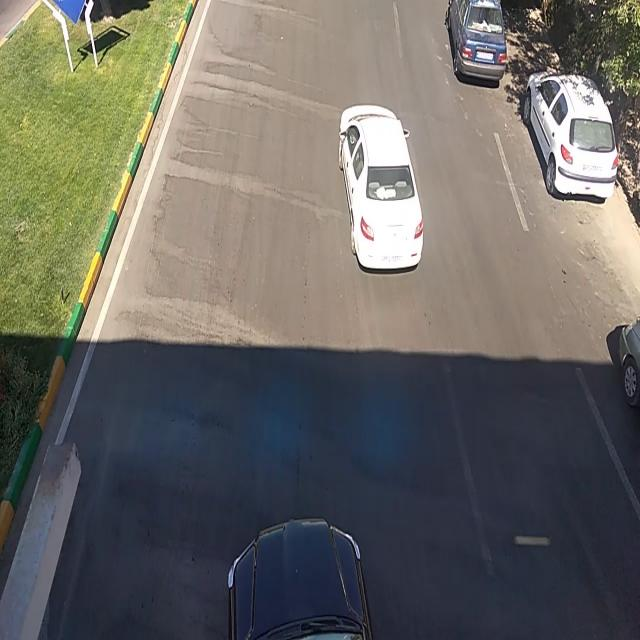car: (216, 517, 374, 640), (336, 91, 425, 272), (523, 67, 619, 209), (447, 0, 507, 82), (614, 318, 640, 416)
